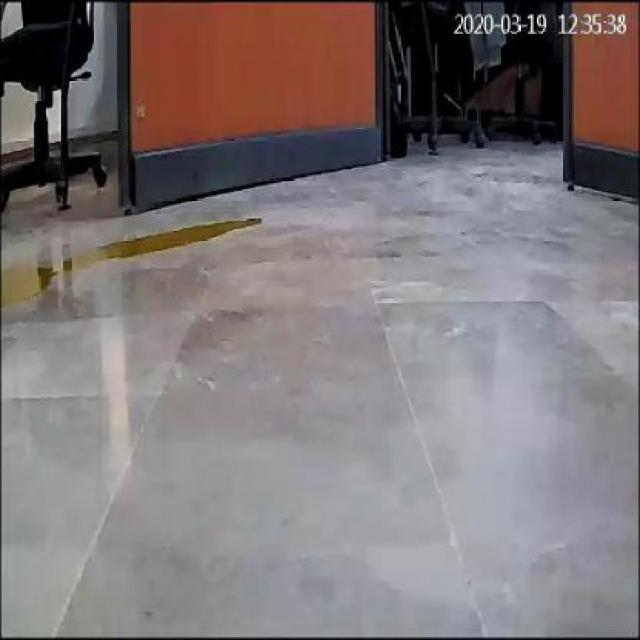spill: (0, 212, 262, 300)
